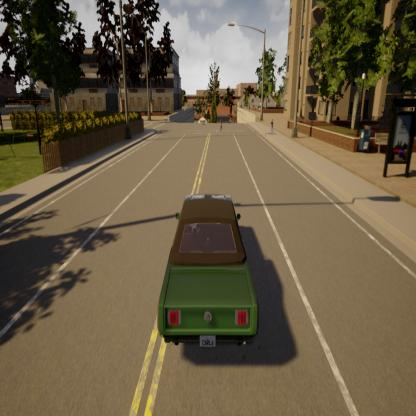Cars: (145, 166, 265, 379)
Pedestrian: (267, 109, 275, 148)
